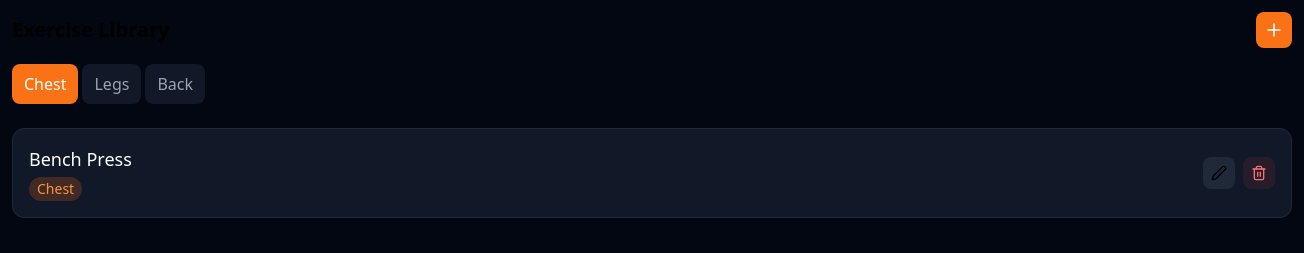
Test case: LibraryView - Complete Workflow › should show empty state when category has no exercises
The width and height of the screenshot is (1304, 253).
// Switch to Legs category (which has no exercises)
Click the button "Legs" at (112, 84), box [82,64,141,104]
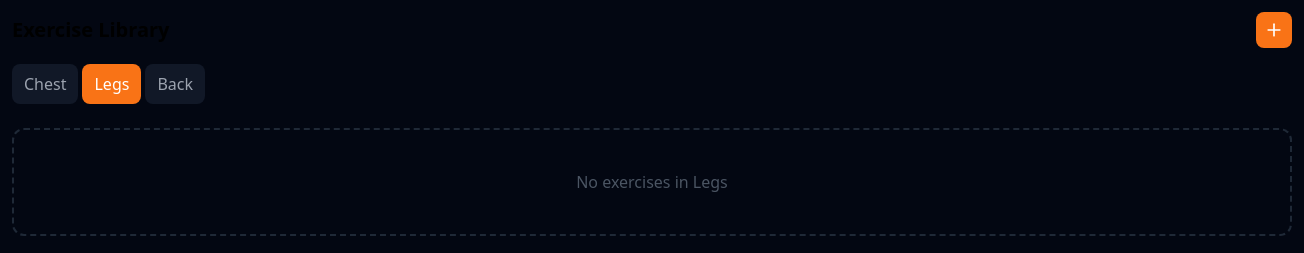
Expected: the text "No exercises in Legs" is shown, [12,128,1292,236]
